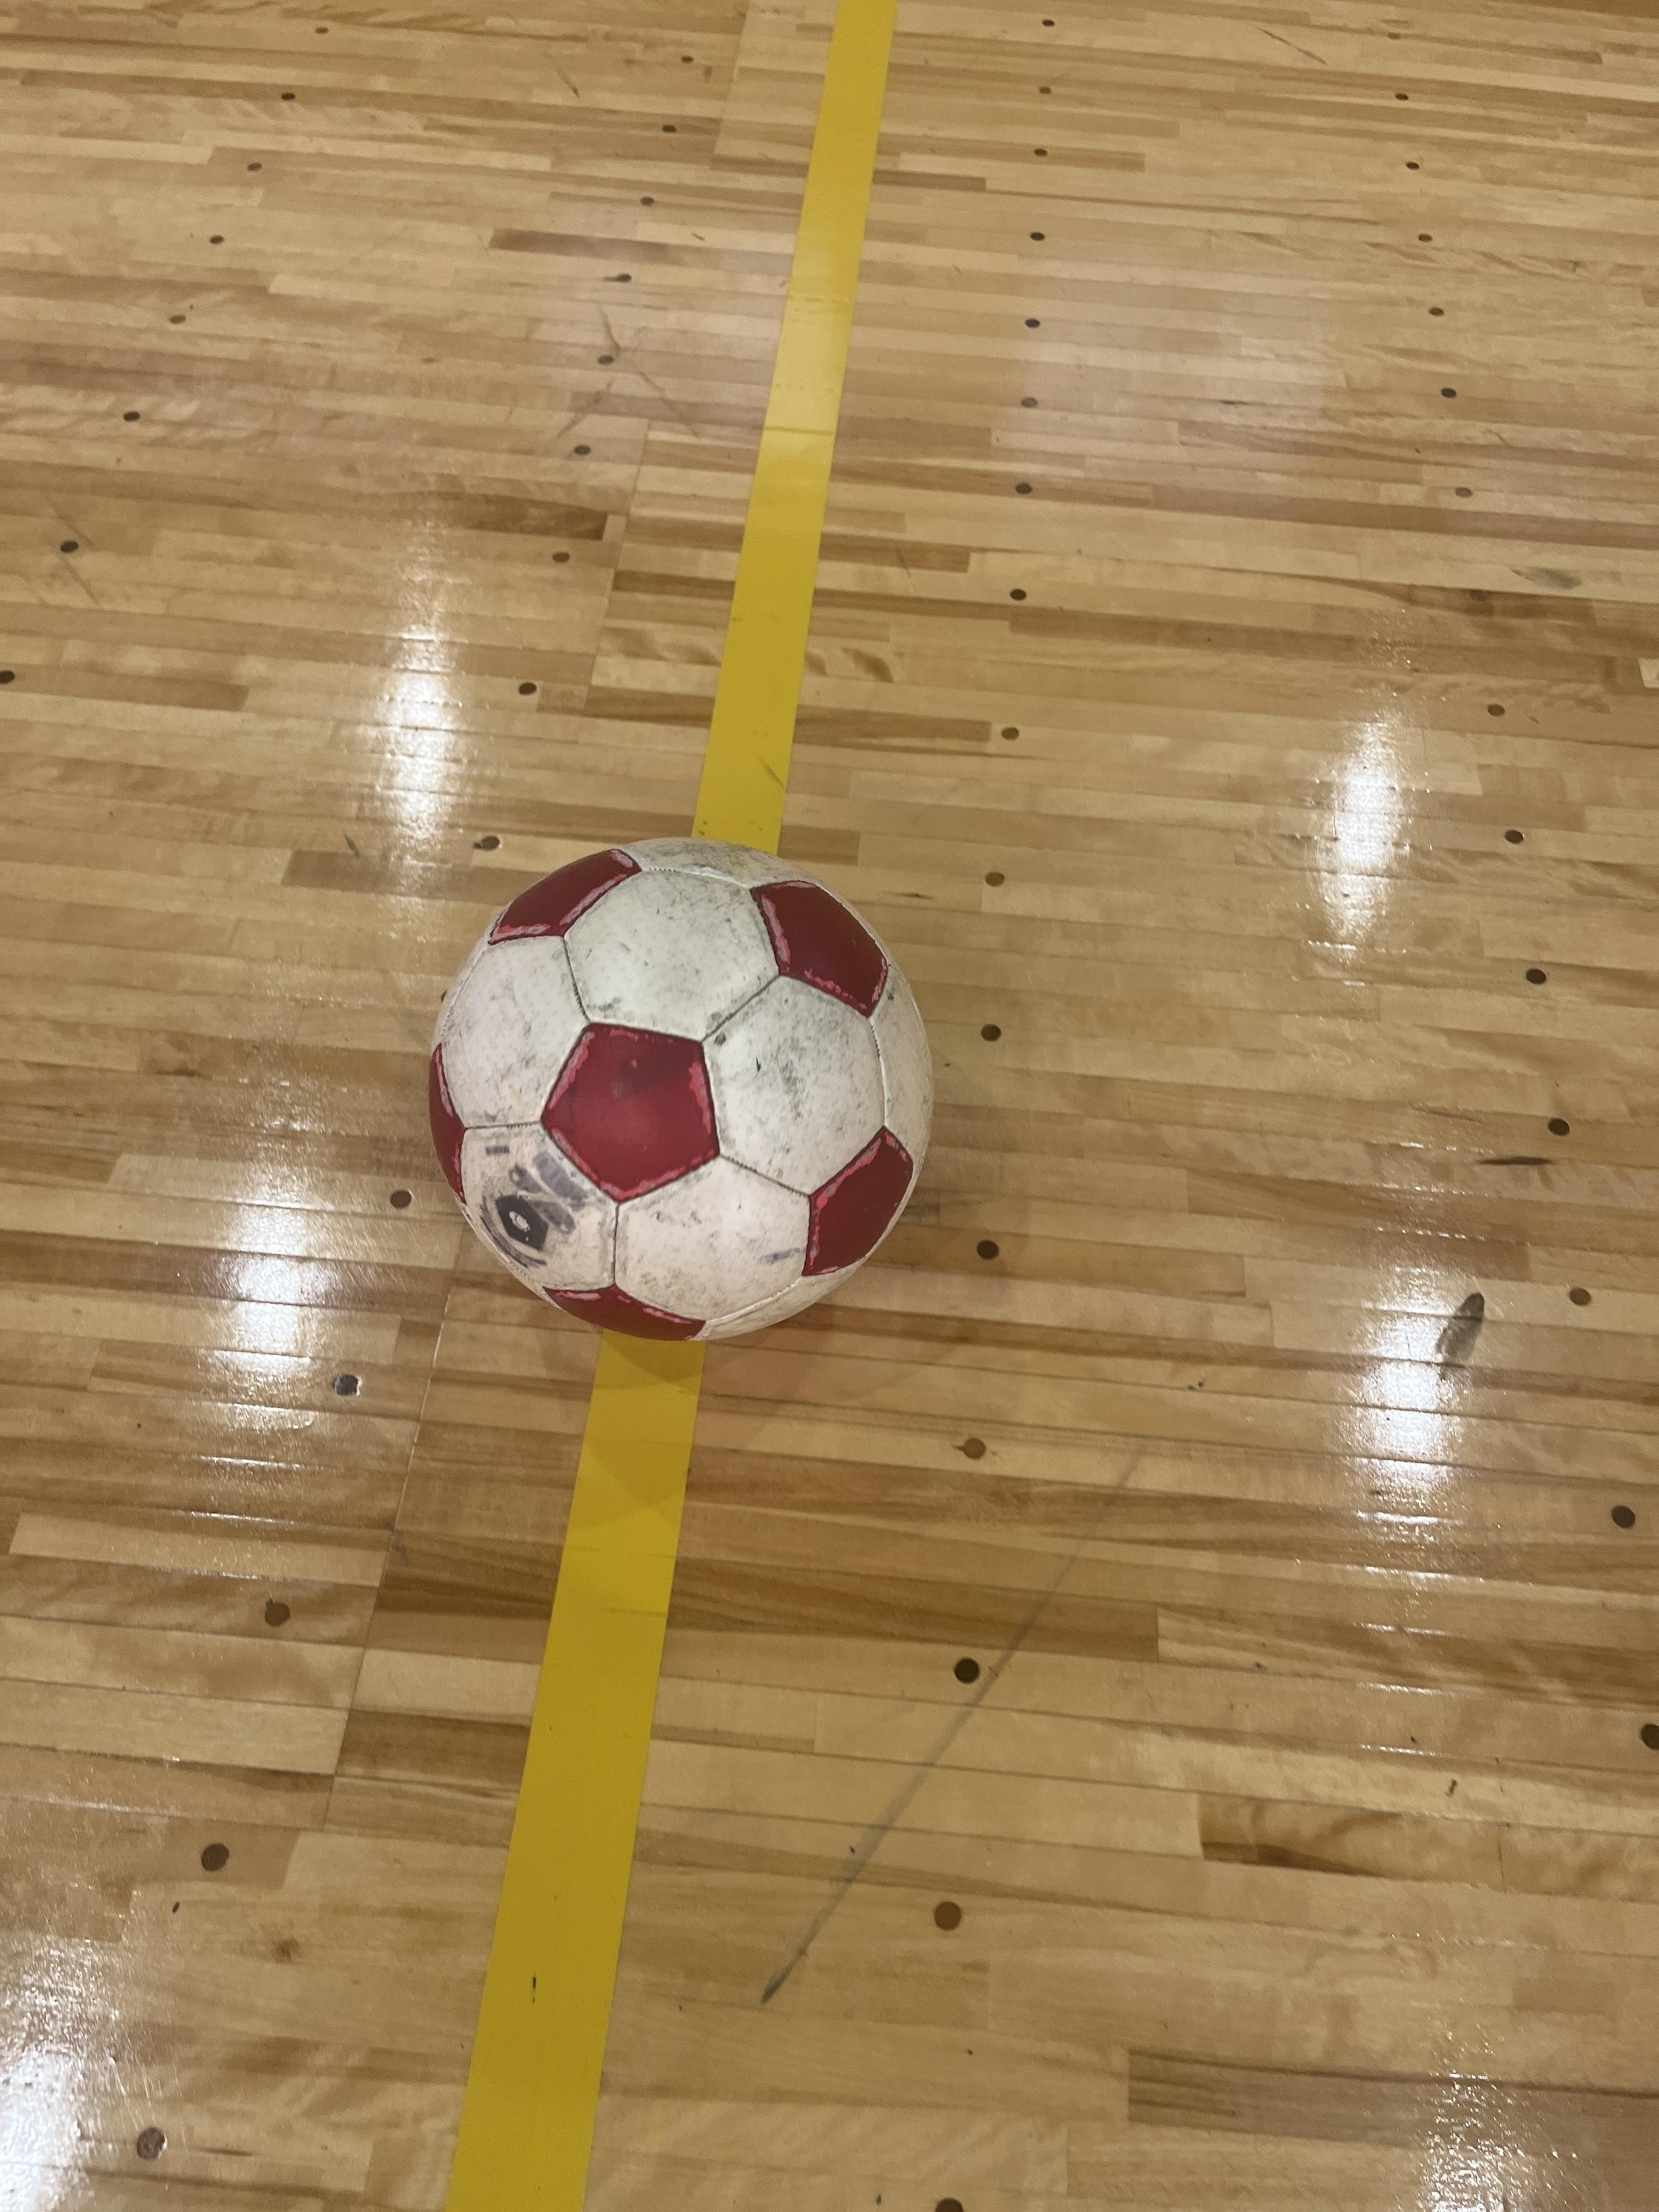Sports-Ball: (433, 845, 949, 1327)
